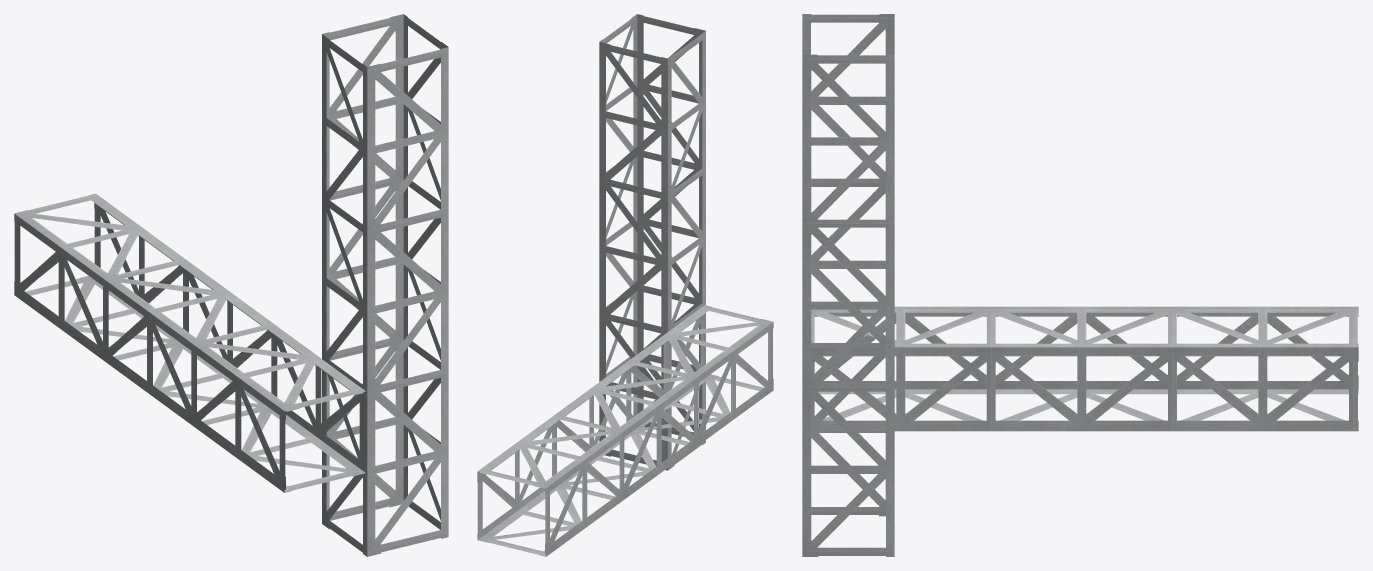
File: pilares teste.FBX
3 renders of one model, left to right at view 1: azimuth 30°, elevation 25°; view 2: azimuth 150°, elevation 25°; view 3: azimuth 270°, elevation 25°, orthographic. The views are drawn at different scales.
Parts seen in each view (by area): view 1: Box02, Object01; view 2: Box02, Object01; view 3: Object01, Box02.
Part boxes in pixels (x1=…): Box02: x1=322, y1=14, x2=448, y2=556; Object01: x1=14, y1=193, x2=365, y2=492; Box02: x1=599, y1=14, x2=705, y2=470; Object01: x1=477, y1=305, x2=773, y2=556; Object01: x1=811, y1=306, x2=1358, y2=431; Box02: x1=802, y1=14, x2=894, y2=556.
Size of the model in its own units: 13.67 by 39.26 by 39.41.
